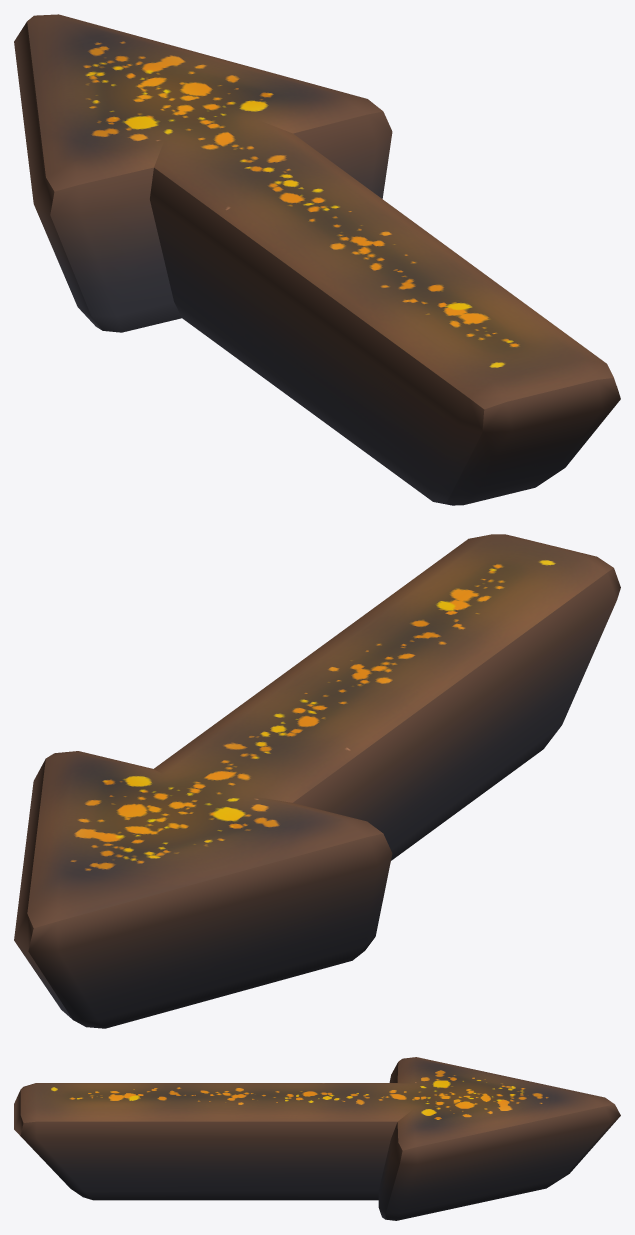
Rendered from yazirushi_02.fbx.
3 views of the same model, one above another, from view 1: azimuth 30°, elevation 25°; view 2: azimuth 150°, elevation 25°; view 3: azimuth 270°, elevation 25° (orthographic). The views are drawn at different scales.
Visible parts, largest first — view 1: yazirusi5; view 2: yazirusi5; view 3: yazirusi5.
Part boxes in pixels (x1,y1,x2,y2): yazirusi5: (14, 14, 620, 505); yazirusi5: (14, 534, 620, 1028); yazirusi5: (14, 1057, 620, 1220).
Size of the model in its own units: 2.17 by 0.9804 by 5.78.
